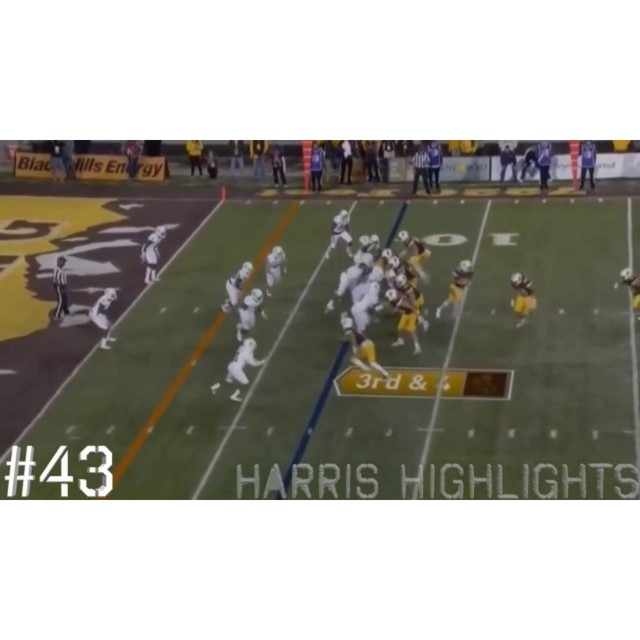american-football-player: (211, 336, 267, 403), (325, 251, 376, 316), (344, 320, 390, 380), (436, 260, 475, 322), (387, 290, 424, 355), (340, 283, 382, 338), (88, 288, 120, 350), (397, 230, 433, 282), (235, 288, 267, 343), (222, 262, 253, 313), (510, 272, 538, 328), (140, 226, 167, 284), (328, 208, 355, 261), (618, 268, 640, 326), (265, 245, 287, 297)
referee: (50, 256, 74, 323)
